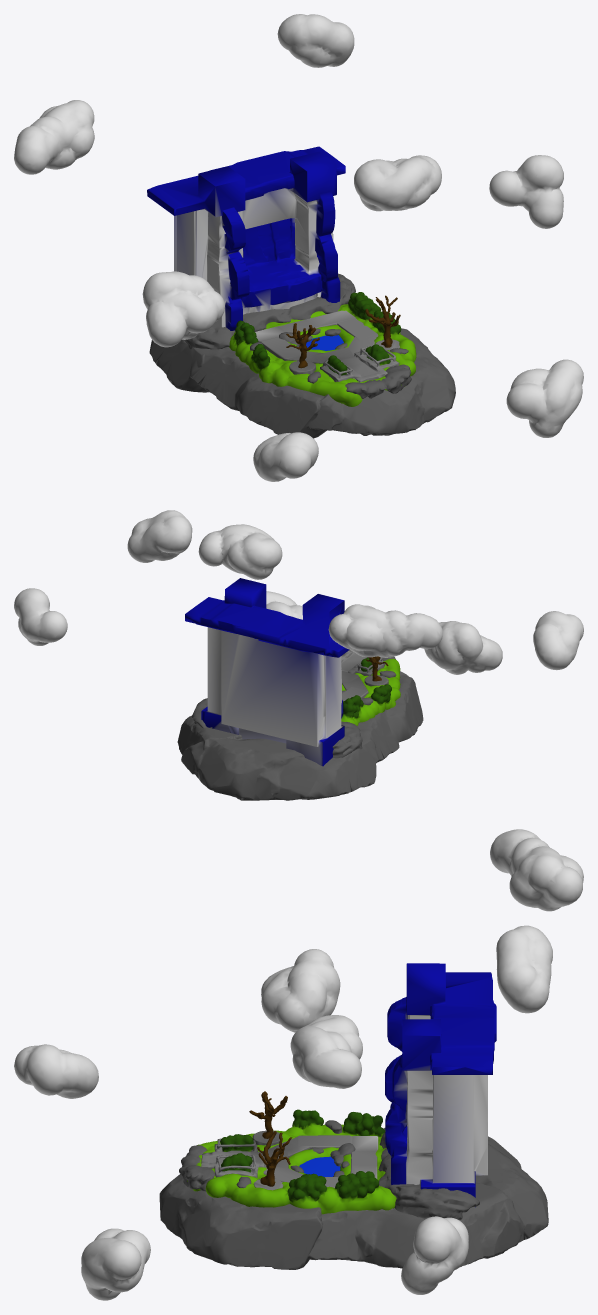
The model's file is worldsketch_decimated.glb.
3 views of the same model, one above another, from view 1: azimuth 30°, elevation 25°; view 2: azimuth 150°, elevation 25°; view 3: azimuth 270°, elevation 25° (orthographic). The views are drawn at different scales.
Parts seen in each view (by area): view 1: geom, geom.004, geom.003, geom.001; view 2: geom, geom.004, geom.003, geom.001; view 3: geom, geom.004, geom.003, geom.001.
Part boxes in pixels (bbox=[...]): geom: bbox=[14, 14, 583, 481]; geom.004: bbox=[147, 146, 399, 382]; geom.003: bbox=[229, 292, 416, 406]; geom.001: bbox=[184, 273, 411, 398]; geom: bbox=[14, 510, 583, 800]; geom.004: bbox=[185, 578, 388, 766]; geom.003: bbox=[341, 656, 400, 725]; geom.001: bbox=[192, 656, 396, 758]; geom: bbox=[14, 829, 583, 1300]; geom.004: bbox=[201, 963, 496, 1207]; geom.003: bbox=[187, 1091, 396, 1214]; geom.001: bbox=[179, 1120, 479, 1220].
Size of the model in its own units: 1.26 by 0.7287 by 1.08.
